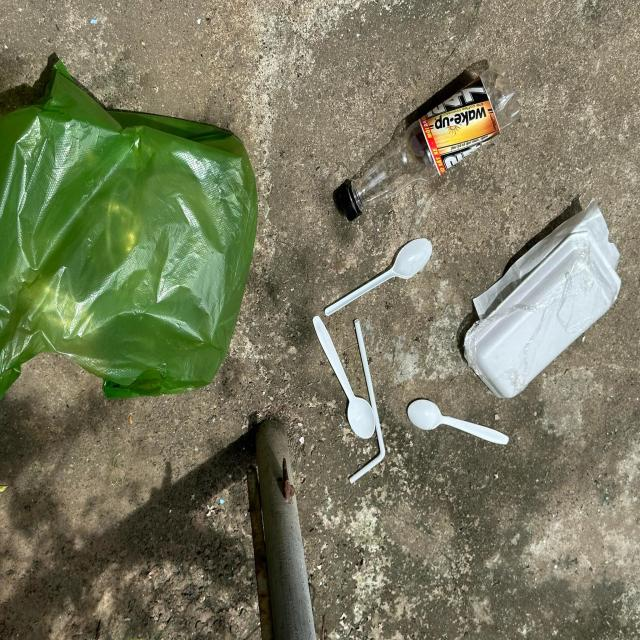bag: (0, 58, 259, 400)
bottle: (340, 65, 520, 222)
drinking straw: (350, 319, 386, 484)
foam box: (463, 231, 622, 398)
plastic utensil: (324, 238, 432, 314), (312, 314, 375, 439), (406, 399, 509, 446)
